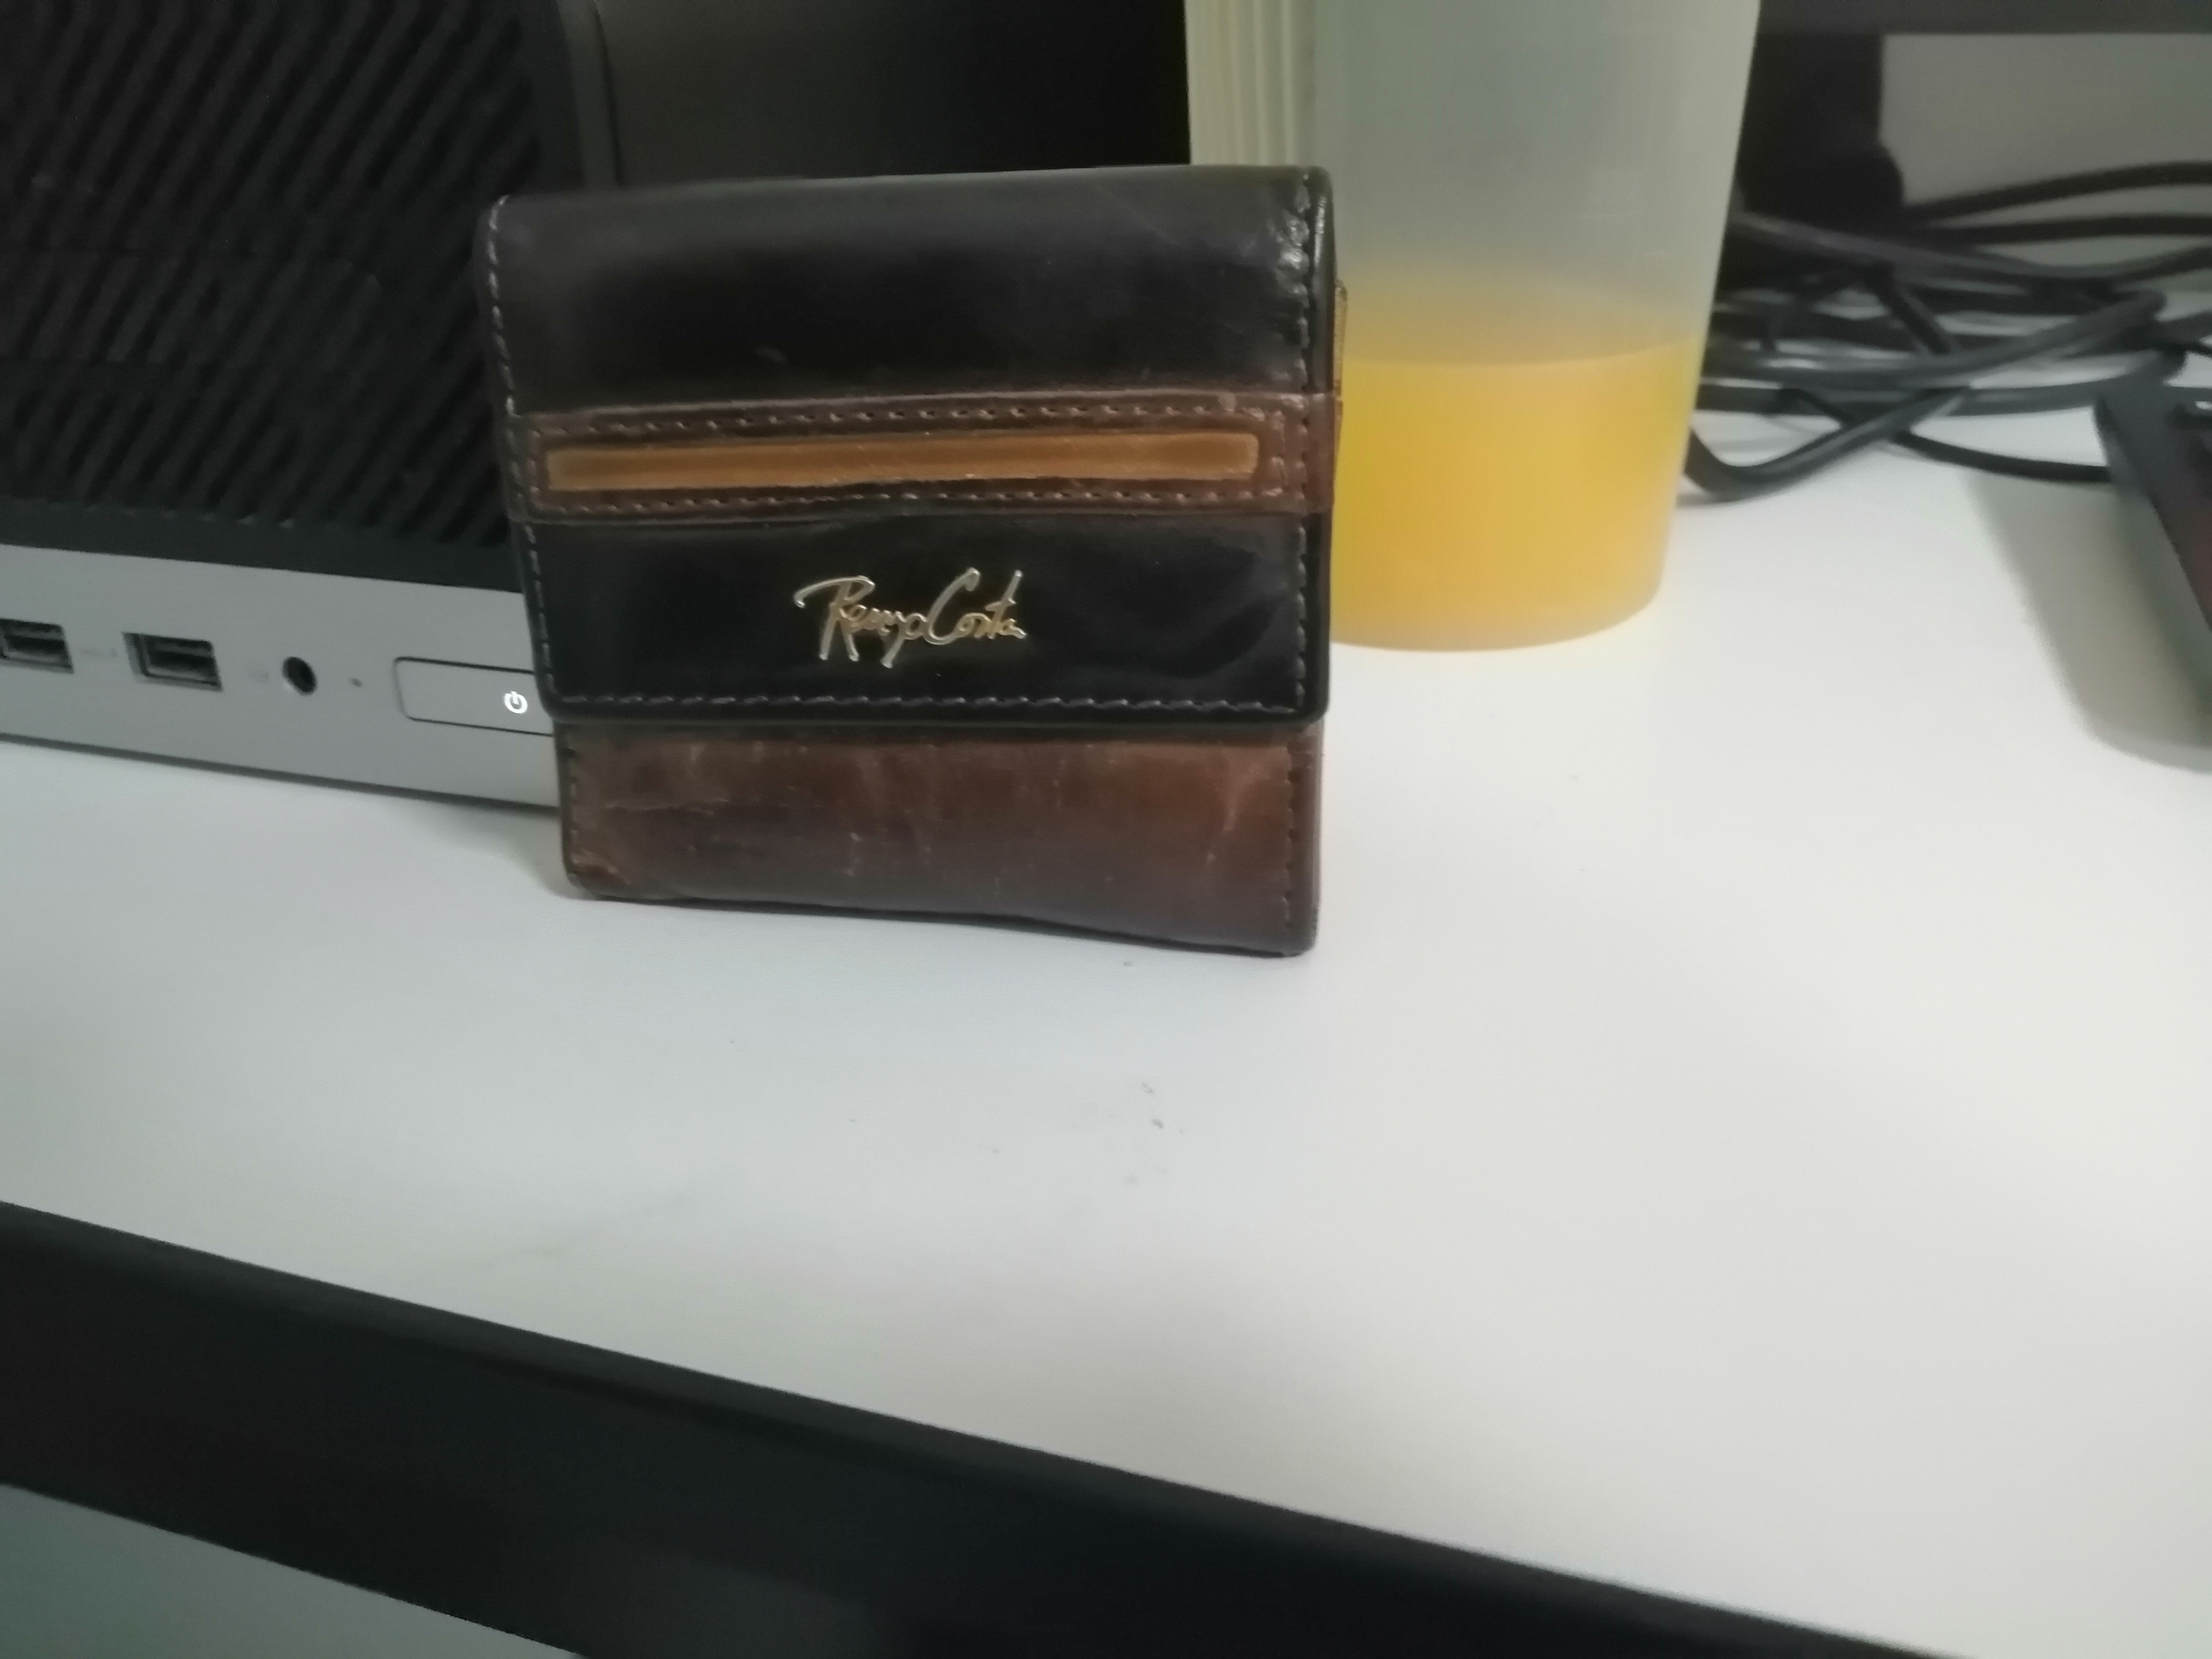monedero: (449, 157, 1385, 985)
